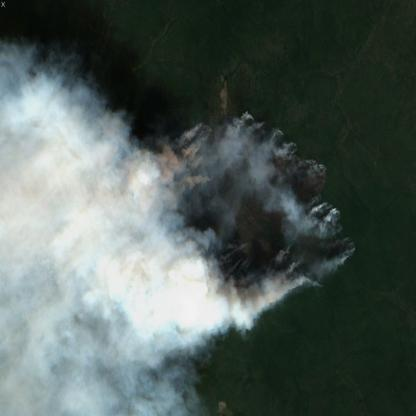fire: (156, 108, 360, 324)
